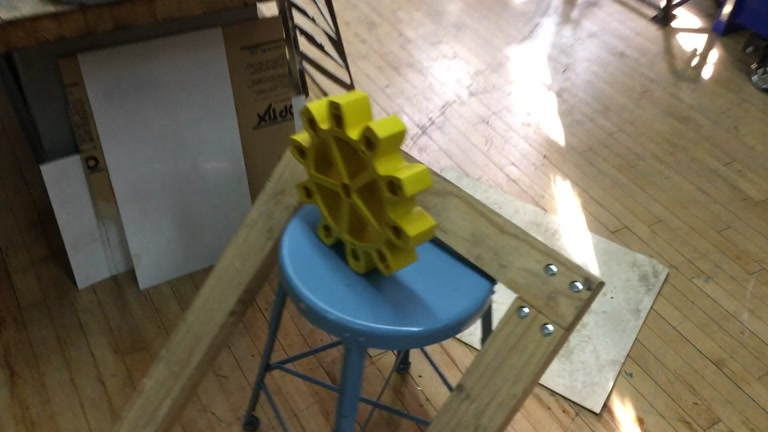gear: (287, 91, 438, 276)
